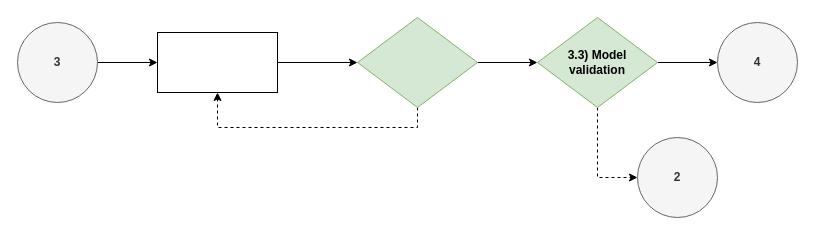
Image size: 815x235. Some labels were removed from this diagram. The box of each missing label's shape, as (x1, y1, x2, y2) in pixels:
3.1) Set up & Run experiments: (156, 32, 278, 92)
3.2) Data validation: (356, 16, 478, 108)
